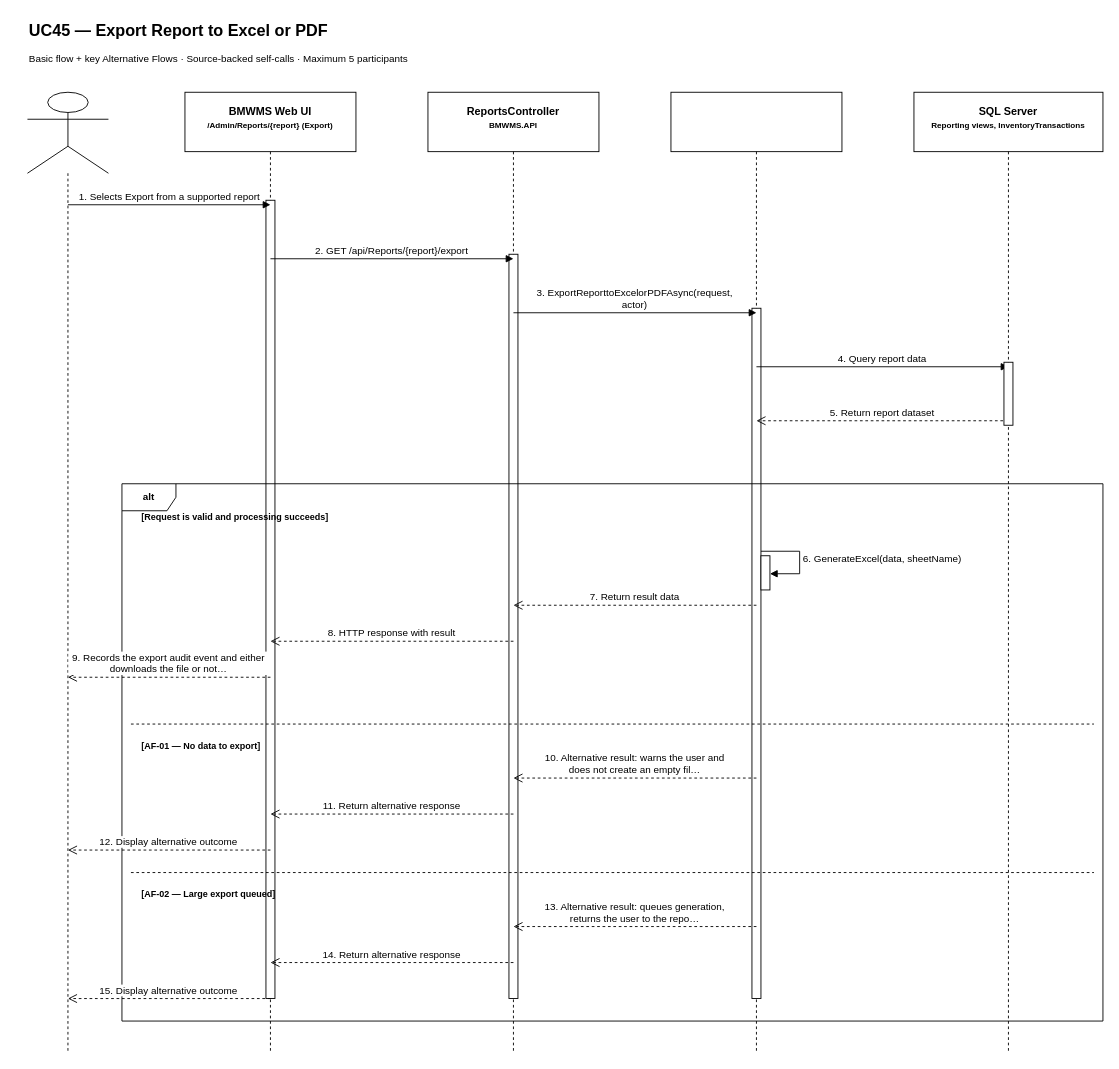
The diagram is 1119 pixels wide and 1069 high, and some of its shapes have lost their labels. Each missing label, with the centre of its shape:
"ReportService / ExcelExportService Business" belongs at (756,572).
"Warehouse Manager" belongs at (67,132).
